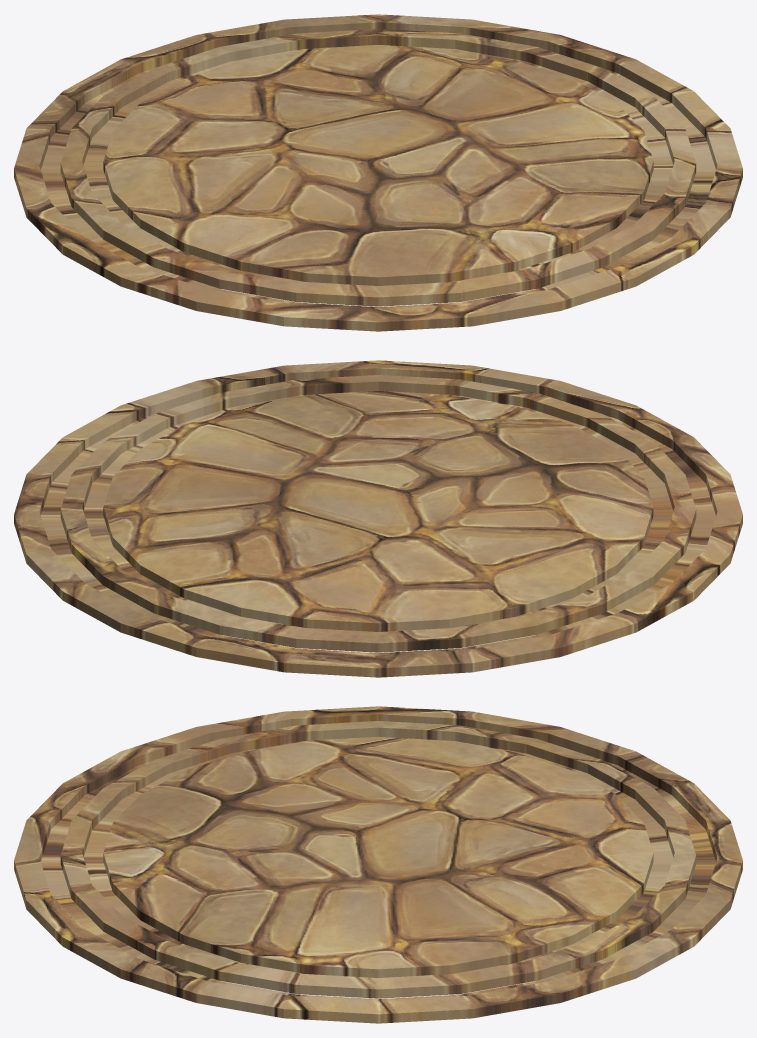
The model's file is StartPoint.FBX.
The picture shows the model from 3 angles, top to bottom: view 1: azimuth 30°, elevation 25°; view 2: azimuth 150°, elevation 25°; view 3: azimuth 270°, elevation 25°; orthographic projection.
Visible parts, largest first — view 1: InnerPanel, OuterPanel; view 2: InnerPanel, OuterPanel; view 3: InnerPanel, OuterPanel.
Boxes of the visible parts, x1=… form: InnerPanel: x1=103, y1=45, x2=653, y2=285; OuterPanel: x1=14, y1=14, x2=742, y2=331; InnerPanel: x1=103, y1=391, x2=653, y2=631; OuterPanel: x1=14, y1=360, x2=742, y2=677; InnerPanel: x1=103, y1=737, x2=653, y2=977; OuterPanel: x1=14, y1=706, x2=742, y2=1023.
Bounding box in the file's own units: 1427 × 62.07 × 1427.
1 material, 1 textured.
